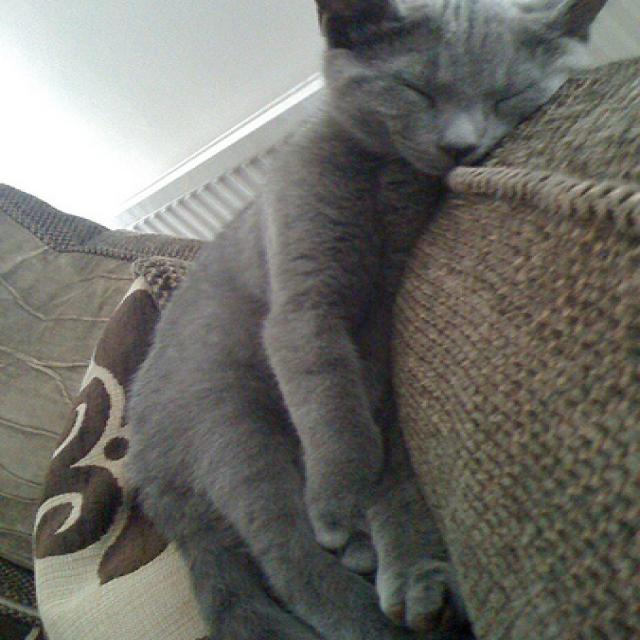Russian Blue: (123, 0, 634, 640)
